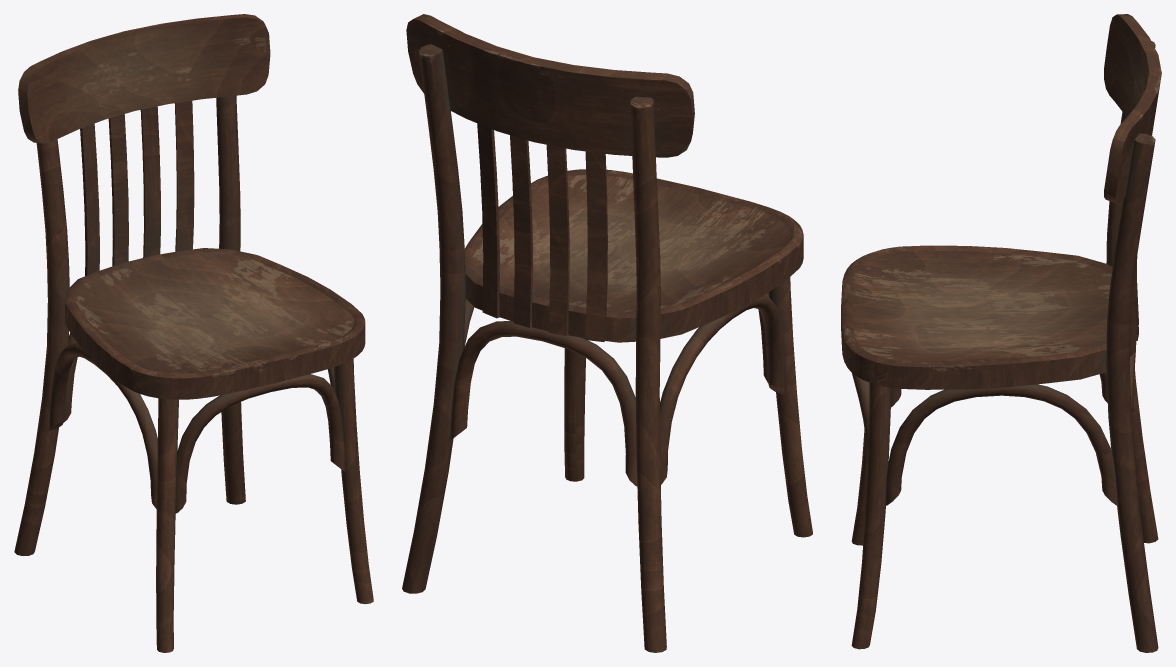
Rendered from old_soviet_chair.glb.
3 views of the same model, side by side, from view 1: azimuth 30°, elevation 25°; view 2: azimuth 150°, elevation 25°; view 3: azimuth 270°, elevation 25° (orthographic). The views are drawn at different scales.
Visible parts, largest first — view 1: soviet_chair_0; view 2: soviet_chair_0; view 3: soviet_chair_0.
Boxes of the visible parts, box(x1,y1,x2,y2) form: soviet_chair_0: box(14, 14, 373, 652); soviet_chair_0: box(402, 14, 812, 652); soviet_chair_0: box(841, 14, 1161, 652).
Size of the model in its own units: 0.4624 by 0.8741 by 0.4857.
Materials: 1 (1 with a texture image).
